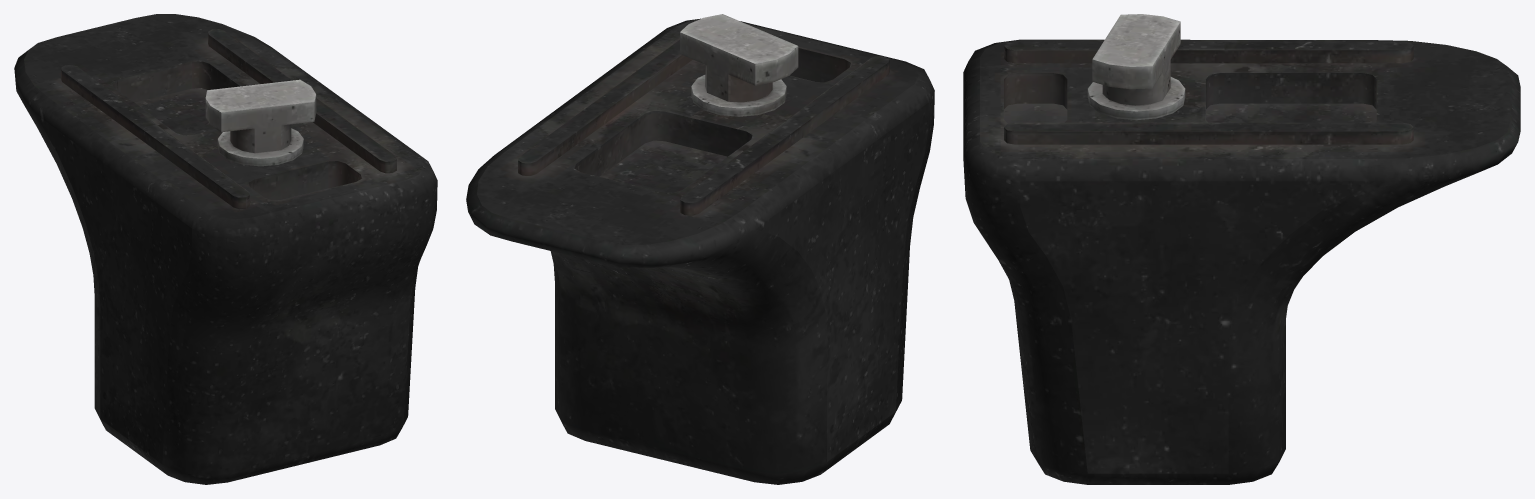
Rendered from batente_akmn.glb.
3 views of the same model, side by side, from view 1: azimuth 30°, elevation 25°; view 2: azimuth 150°, elevation 25°; view 3: azimuth 270°, elevation 25° (orthographic). The views are drawn at different scales.
Visible parts, largest first — view 1: batente_akmn_batente; view 2: batente_akmn_batente; view 3: batente_akmn_batente.
Part boxes in pixels (x1,y1,x2,y2): batente_akmn_batente: [14, 14, 437, 484]; batente_akmn_batente: [466, 14, 934, 484]; batente_akmn_batente: [963, 14, 1520, 484].
Size of the model in its own units: 0.0237 by 0.0323 by 0.0421.
1 material, 1 textured.
